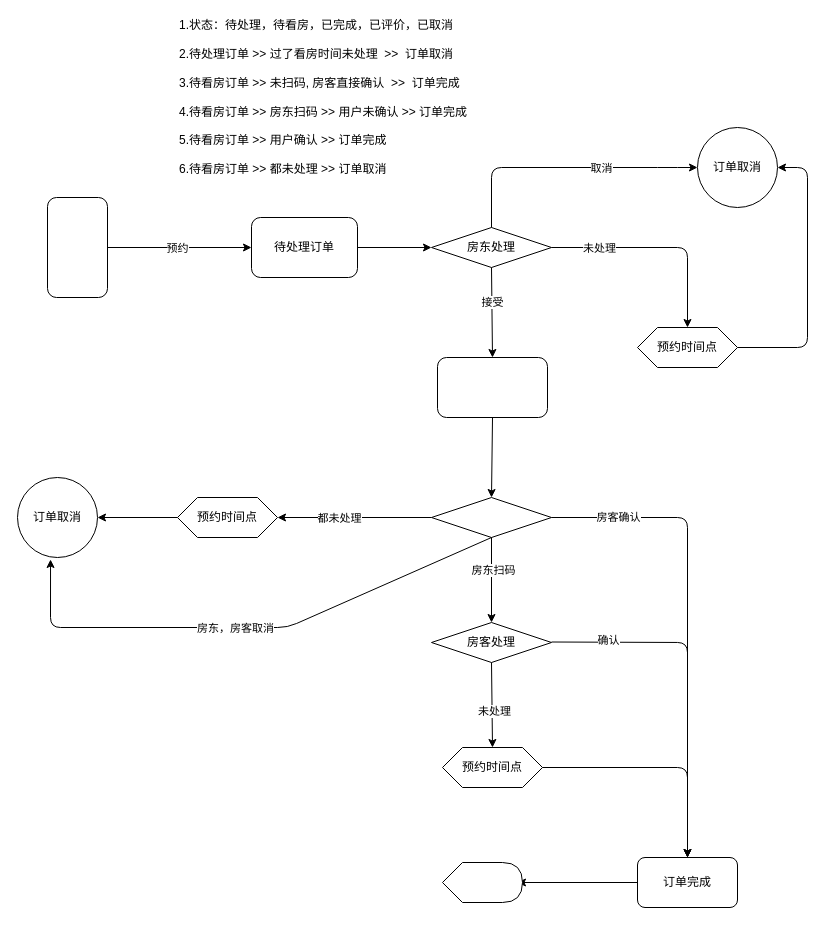
The diagram is 833 pixels wide and 925 high, and some of its shapes have lost their labels. The box of each missing label's shape, as (x1, y1, x2, y2) in pixels:
app: (46, 196, 108, 298)
交叉处理: (430, 496, 552, 538)
待看房: (436, 356, 548, 418)
评价: (442, 862, 522, 902)
